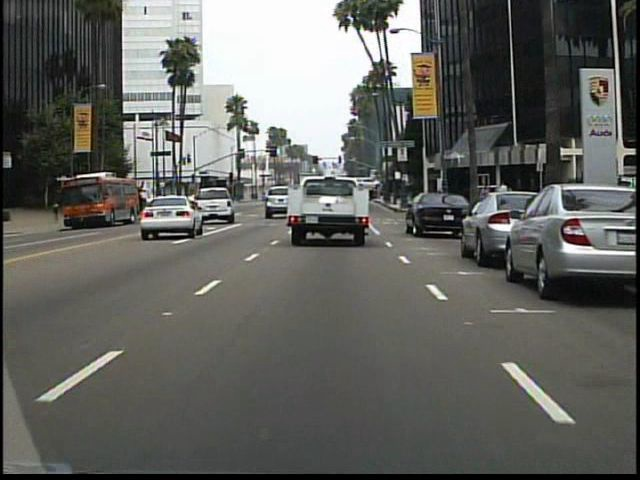person: (494, 178, 512, 219), (52, 195, 66, 224)
